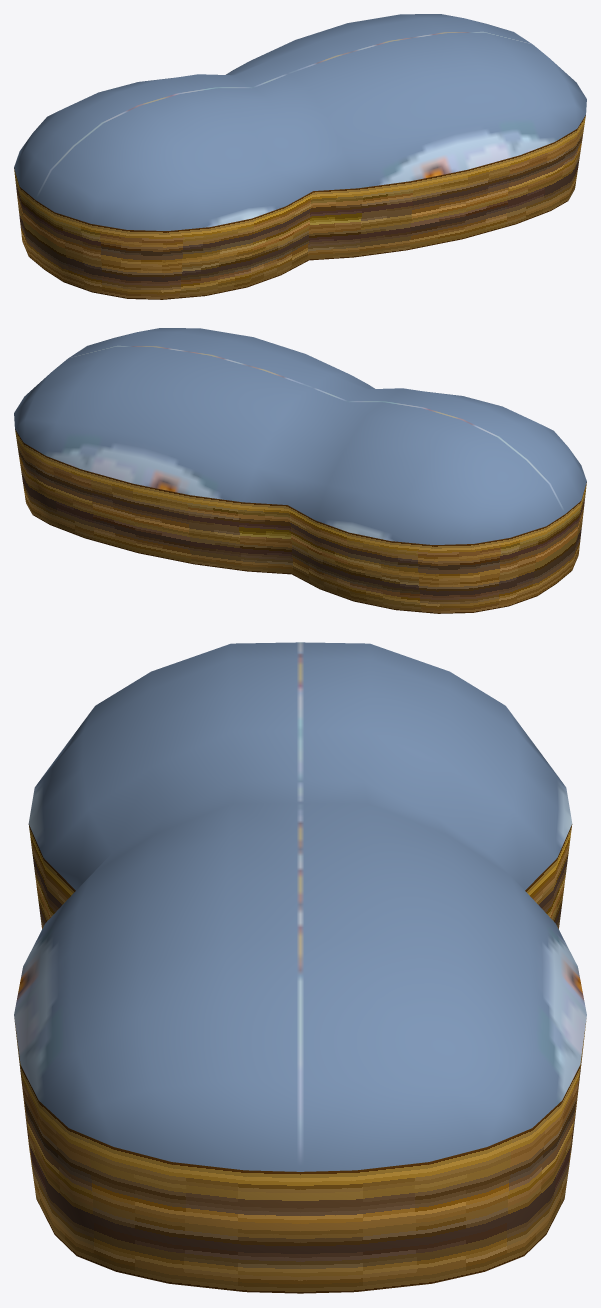
File: int_snw_bedS.dae
The picture shows the model from 3 angles, top to bottom: view 1: azimuth 30°, elevation 25°; view 2: azimuth 150°, elevation 25°; view 3: azimuth 270°, elevation 25°; orthographic projection. The views are drawn at different scales.
Visible parts, largest first — view 1: int_snw_bedS; view 2: int_snw_bedS; view 3: int_snw_bedS.
Part boxes in pixels (x1,y1,x2,y2): int_snw_bedS: (14,14,586,299); int_snw_bedS: (14,328,586,613); int_snw_bedS: (14,642,586,1293).
Bounding box in the file's own units: 60.99 × 15.95 × 30.89.
2 materials, 2 textured.
